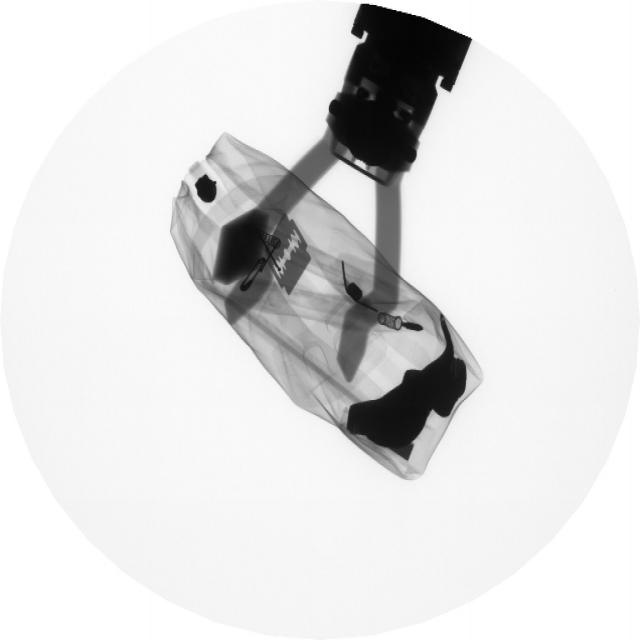BLADE: (266, 211, 316, 302)
